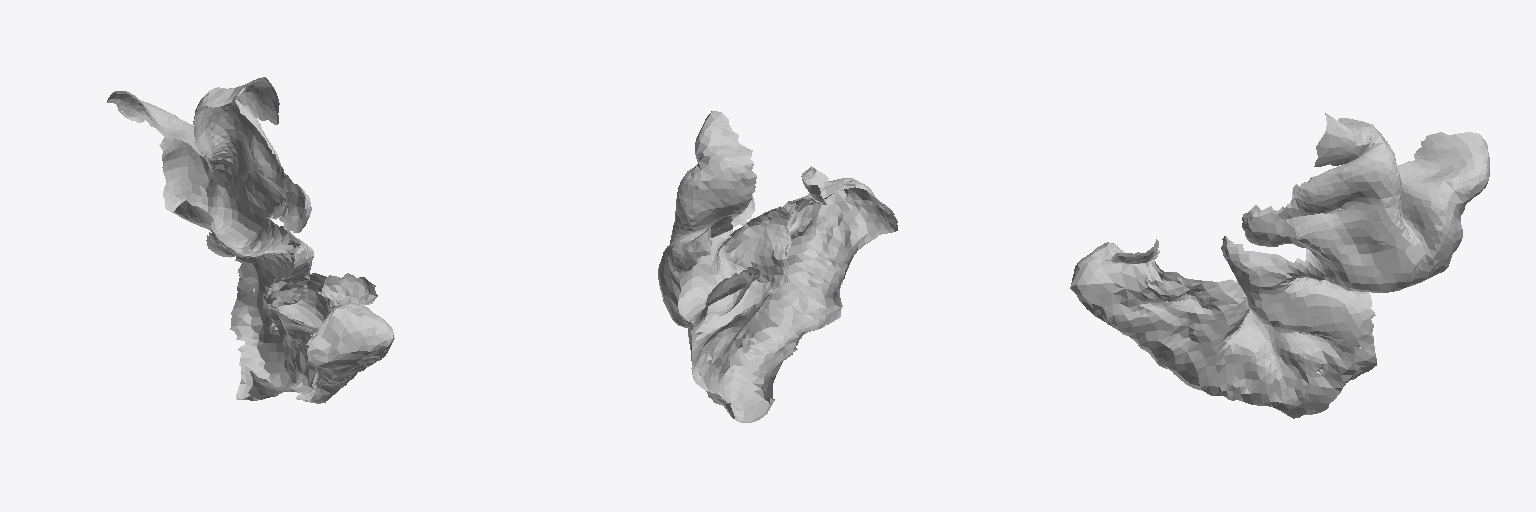
Rendered from R_precuneus.obj.
The picture shows the model from 3 angles: view 1: azimuth 30°, elevation 25°; view 2: azimuth 150°, elevation 25°; view 3: azimuth 270°, elevation 25°; orthographic projection.
Visible parts, largest first — view 1: R_precuneus_L_precuneus; view 2: R_precuneus_L_precuneus; view 3: R_precuneus_L_precuneus.
Part boxes in pixels (bbox=[...]): R_precuneus_L_precuneus: bbox=[107, 77, 394, 403]; R_precuneus_L_precuneus: bbox=[658, 111, 897, 422]; R_precuneus_L_precuneus: bbox=[1070, 113, 1489, 418].
Size of the model in its own units: 56 by 179 by 221.